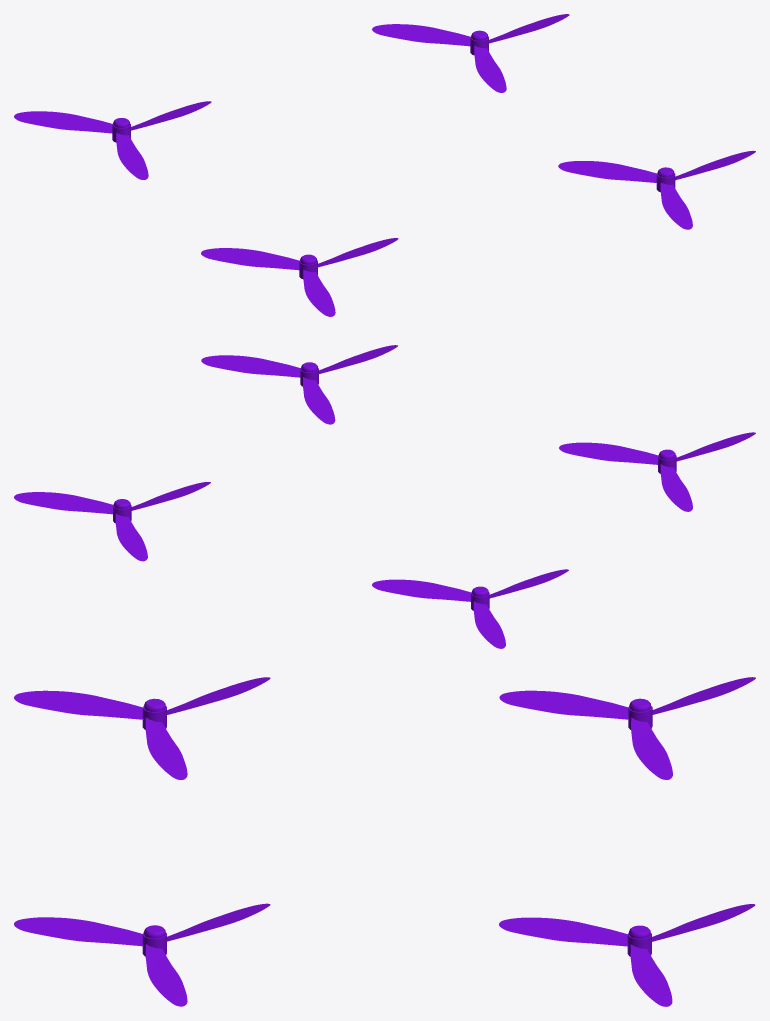
The model's file is propeleriljubicasti.fbx.
3 views of the same model, one above another, from view 1: azimuth 30°, elevation 25°; view 2: azimuth 150°, elevation 25°; view 3: azimuth 270°, elevation 25° (orthographic). The views are drawn at different scales.
Visible parts, largest first — view 1: prop027.002, prop027.004, prop027.003, prop027.001; view 2: prop027.001, prop027.002, prop027.004, prop027.003; view 3: prop027.004, prop027.003, prop027.002, prop027.001.
Part boxes in pixels (x1,y1,x2,y2): prop027.002: [14, 101, 211, 179]; prop027.004: [558, 150, 755, 229]; prop027.003: [372, 14, 569, 92]; prop027.001: [201, 238, 398, 316]; prop027.001: [559, 432, 755, 511]; prop027.002: [372, 569, 568, 648]; prop027.004: [201, 345, 397, 424]; prop027.003: [14, 482, 210, 561]; prop027.004: [14, 903, 270, 1006]; prop027.003: [499, 904, 755, 1006]; prop027.002: [499, 677, 755, 779]; prop027.001: [14, 677, 270, 779].
Bounding box in the file's own units: 687 × 23.74 × 652.
